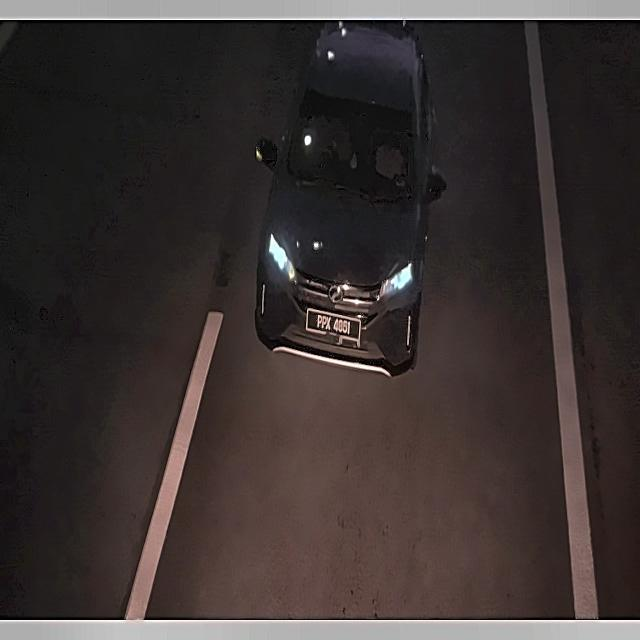car: (305, 304, 361, 345)
